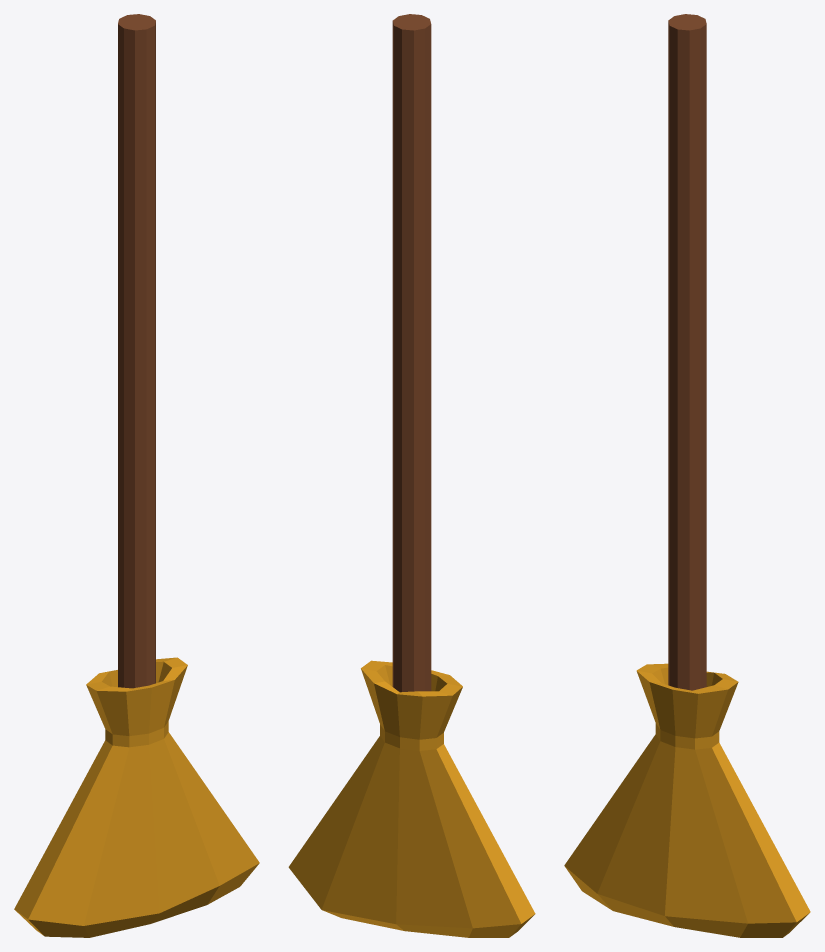
File: broom01.gltf
The picture shows the model from 3 angles, left to right: view 1: azimuth 30°, elevation 25°; view 2: azimuth 150°, elevation 25°; view 3: azimuth 330°, elevation 25°; orthographic projection.
Visible parts, largest first — view 1: Cylinder.001; view 2: Cylinder.001; view 3: Cylinder.001.
Part boxes in pixels (left/top/right/bottom): Cylinder.001: left=14, top=14, right=259, bottom=937; Cylinder.001: left=288, top=14, right=535, bottom=937; Cylinder.001: left=564, top=14, right=810, bottom=937.
Size of the model in its own units: 0.3912 by 1.45 by 0.1197.
Materials: 1 (1 with a texture image).
